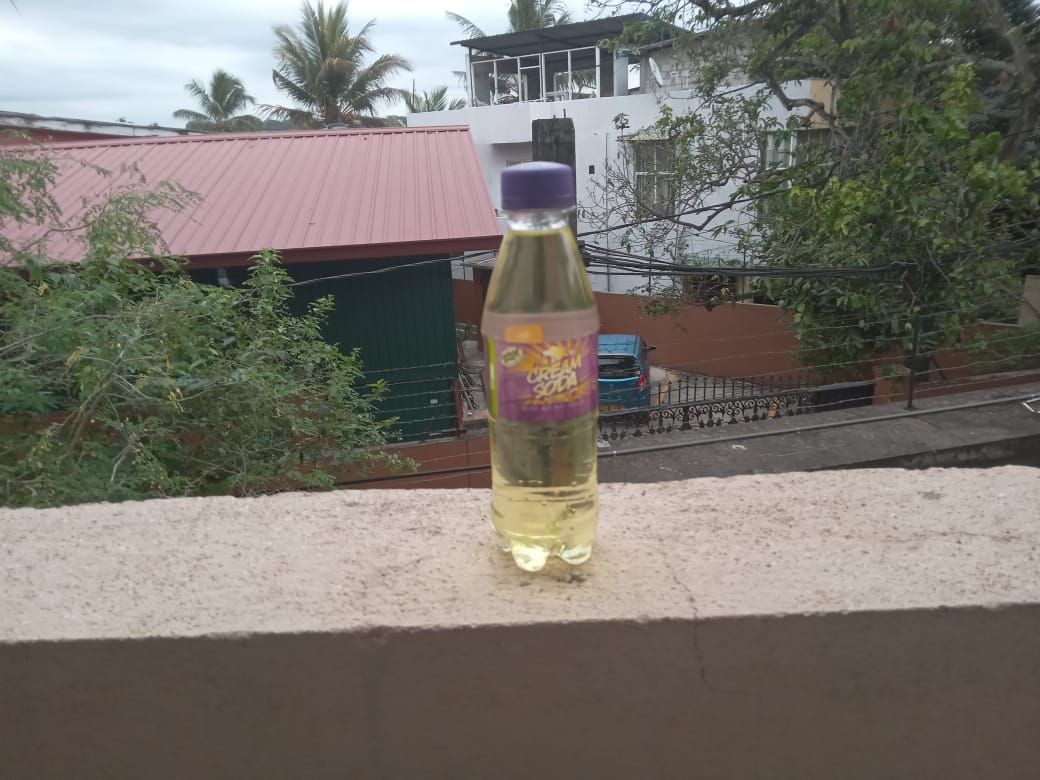Xs: (478, 159, 604, 587)
